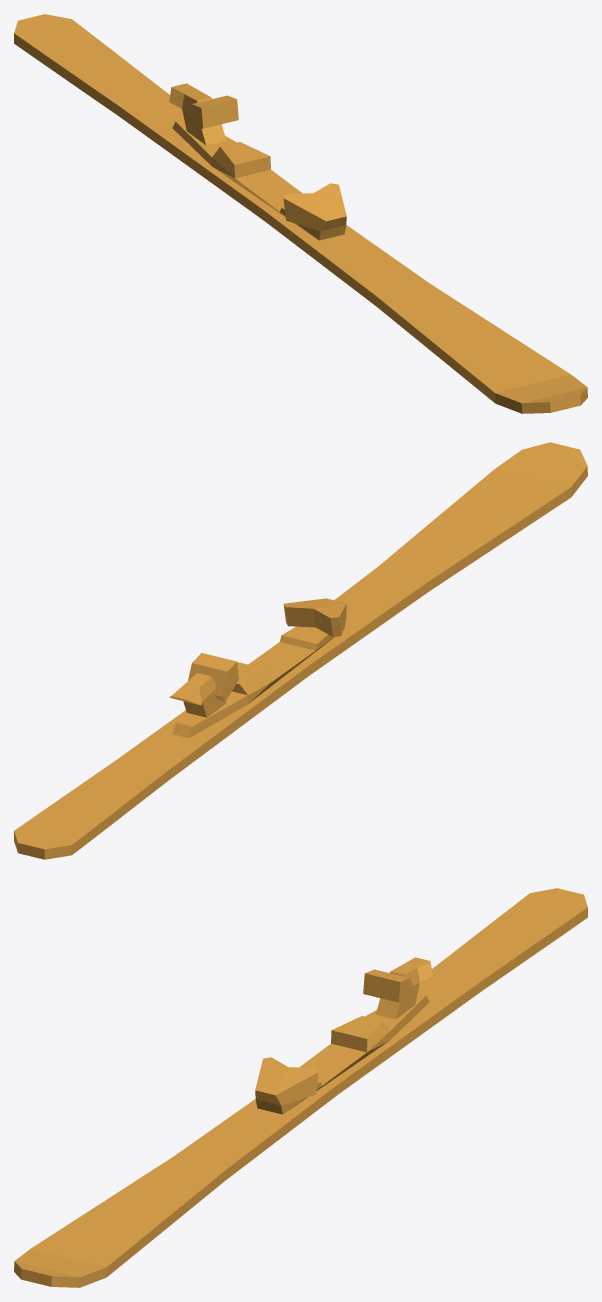
File: ski.fbx
3 views of the same model, one above another, from view 1: azimuth 30°, elevation 25°; view 2: azimuth 150°, elevation 25°; view 3: azimuth 330°, elevation 25° (orthographic).
Parts seen in each view (by area): view 1: ski; view 2: ski; view 3: ski.
Boxes of the visible parts, x1=… form: ski: x1=14, y1=14, x2=587, y2=413; ski: x1=14, y1=442, x2=587, y2=859; ski: x1=14, y1=888, x2=587, y2=1287.
Bounding box in the file's own units: 0.1477 × 0.1151 × 1.8.
